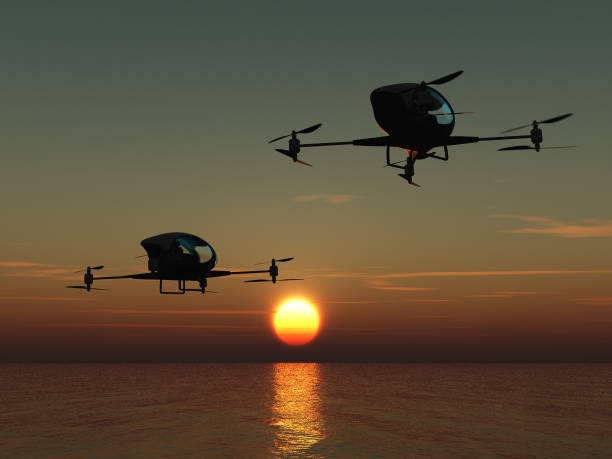Drone: (267, 68, 579, 192), (61, 229, 309, 297)
